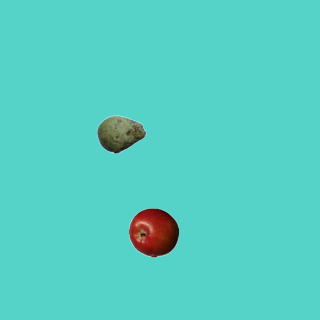Apple Braeburn: (128, 207, 178, 257)
Pear Stone: (96, 109, 146, 159)
